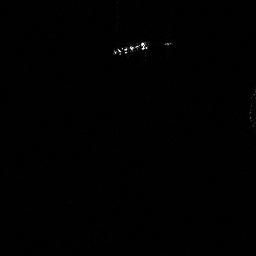ship: (113, 37, 149, 59)
